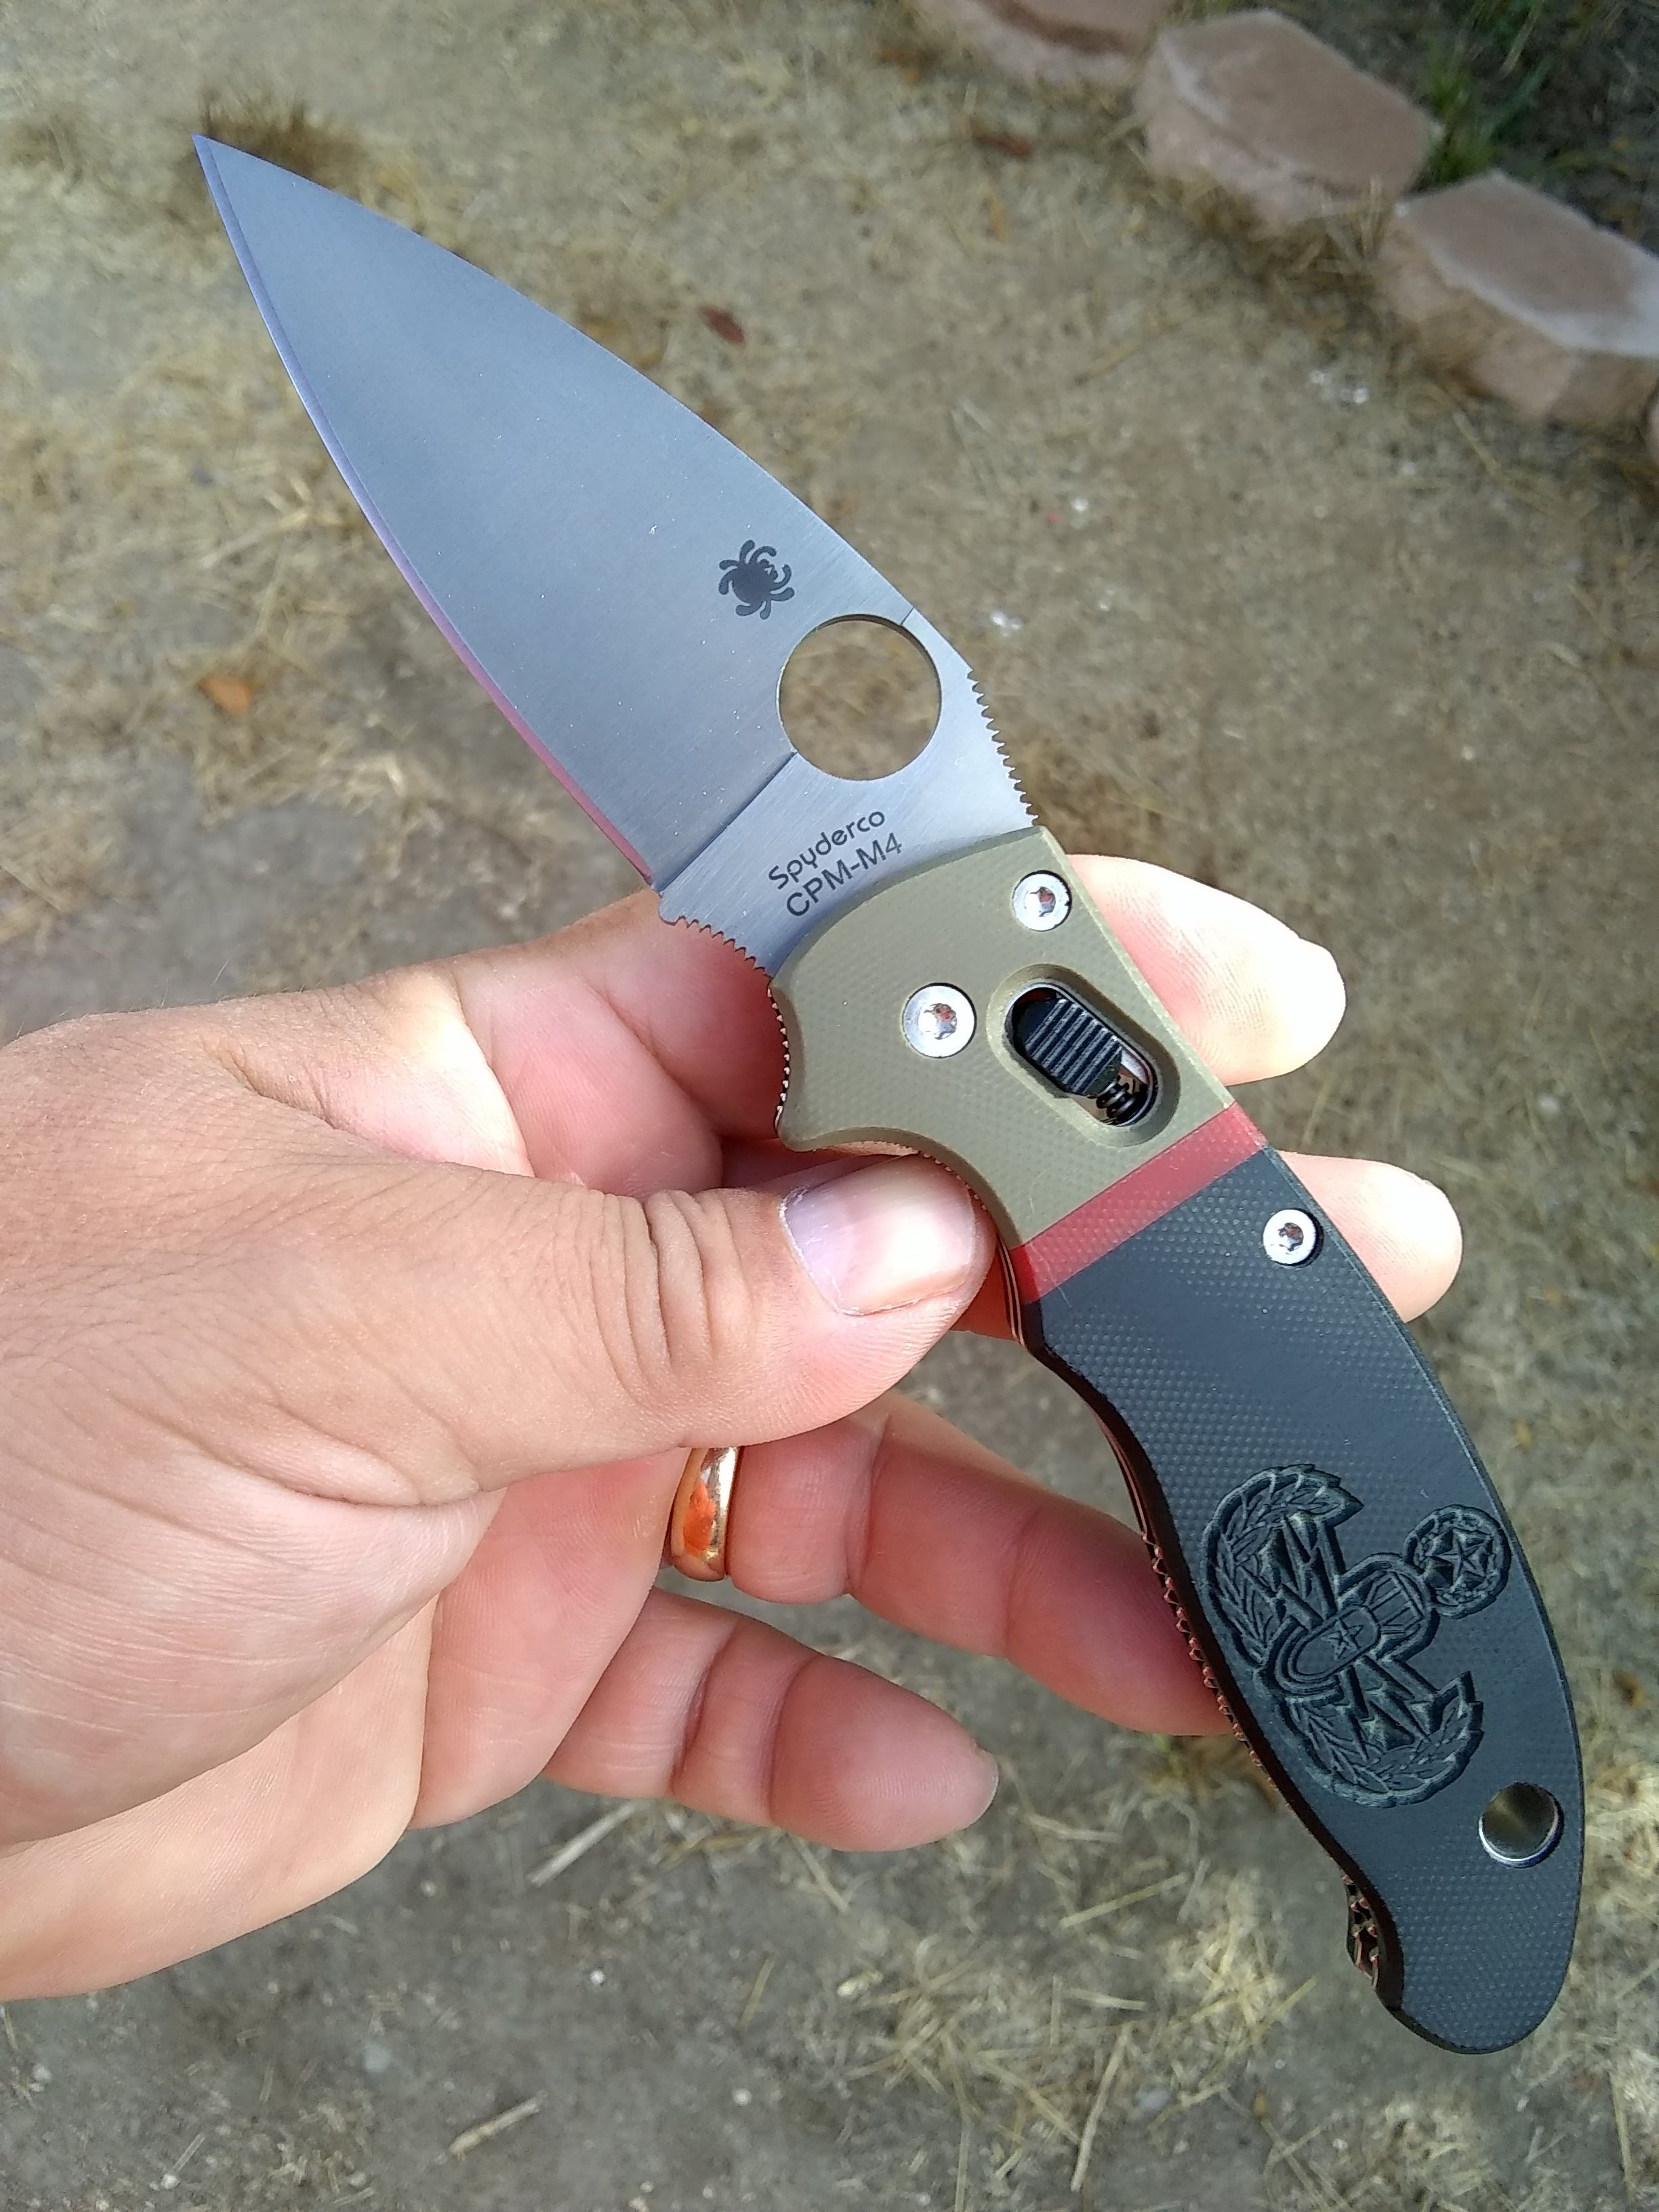knife: (169, 92, 1608, 2073)
